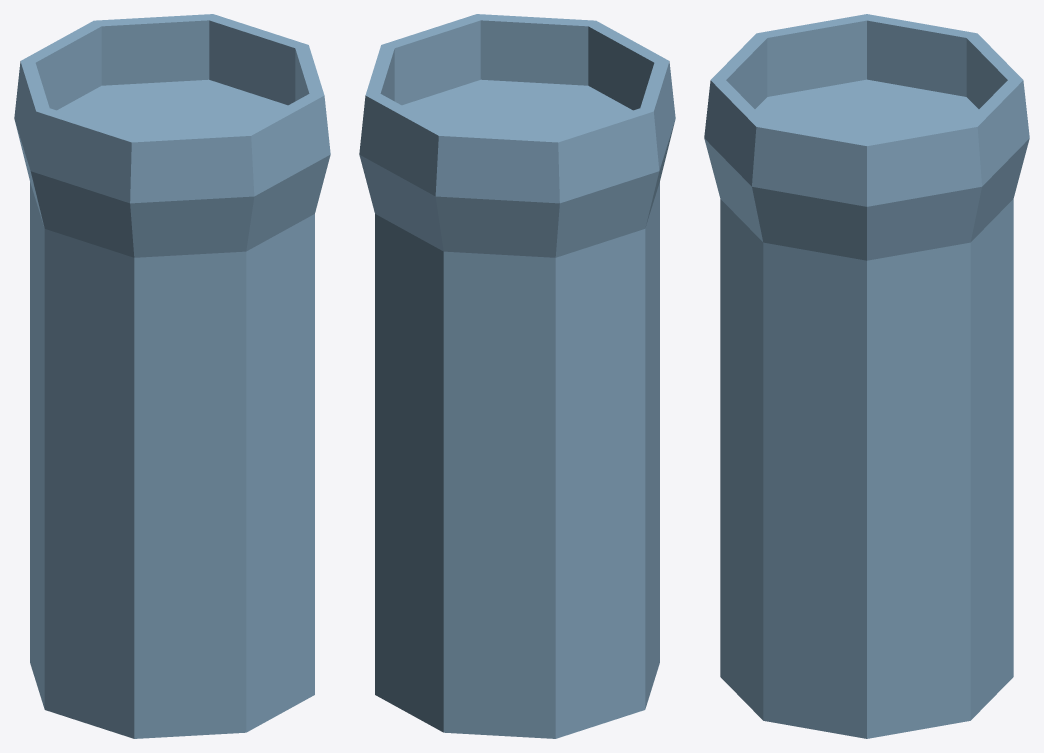
Rendered from SmallTower02.fbx.
The picture shows the model from 3 angles, left to right: view 1: azimuth 30°, elevation 25°; view 2: azimuth 150°, elevation 25°; view 3: azimuth 270°, elevation 25°; orthographic projection.
Parts seen in each view (by area): view 1: Tower; view 2: Tower; view 3: Tower.
Boxes of the visible parts, x1,y1,x2,y2 form: Tower: (14,14,330,738); Tower: (359,14,675,738); Tower: (704,14,1029,738).
Bounding box in the file's own units: 3.57 × 7.21 × 3.57.
